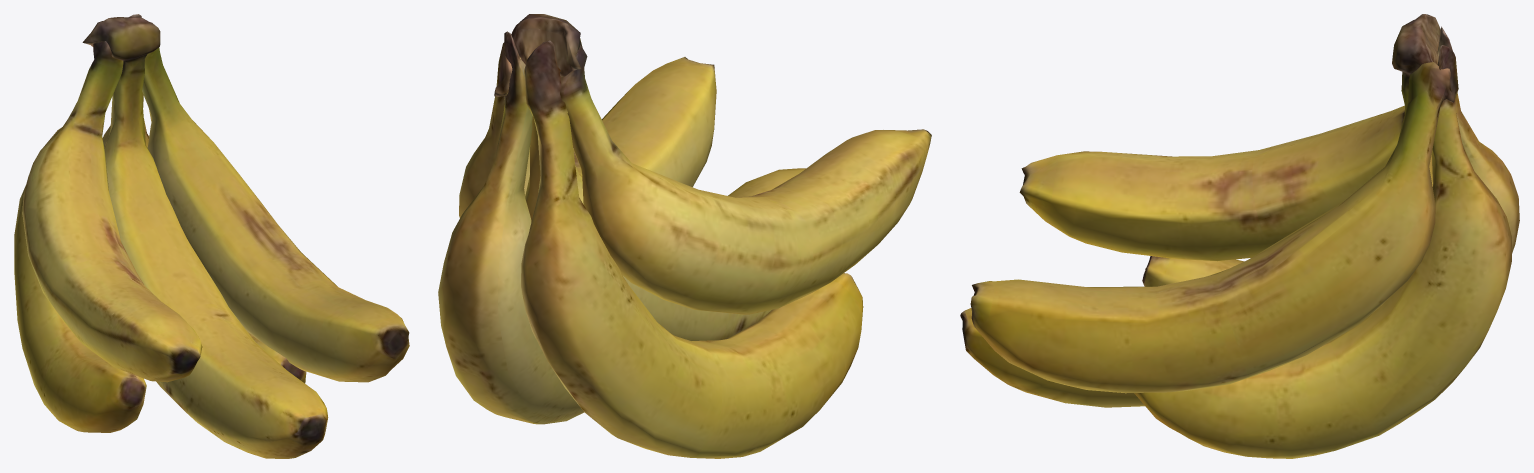
Rendered from bananas__bunch.glb.
The picture shows the model from 3 angles, left to right: view 1: azimuth 30°, elevation 25°; view 2: azimuth 150°, elevation 25°; view 3: azimuth 270°, elevation 25°; orthographic projection. The views are drawn at different scales.
Parts seen in each view (by area): view 1: Material.008; view 2: Material.008; view 3: Material.008.
Boxes of the visible parts, x1=… form: Material.008: x1=14, y1=14, x2=409, y2=458; Material.008: x1=438, y1=14, x2=931, y2=458; Material.008: x1=960, y1=14, x2=1519, y2=458.
Bounding box in the file's own units: 0.1338 × 0.1787 × 0.2227.
Materials: 1 (1 with a texture image).
